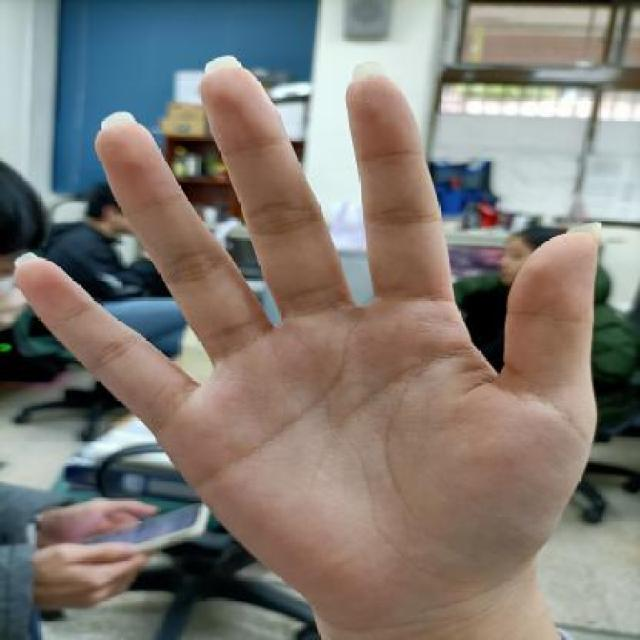bare_hand: (1, 40, 630, 634)
